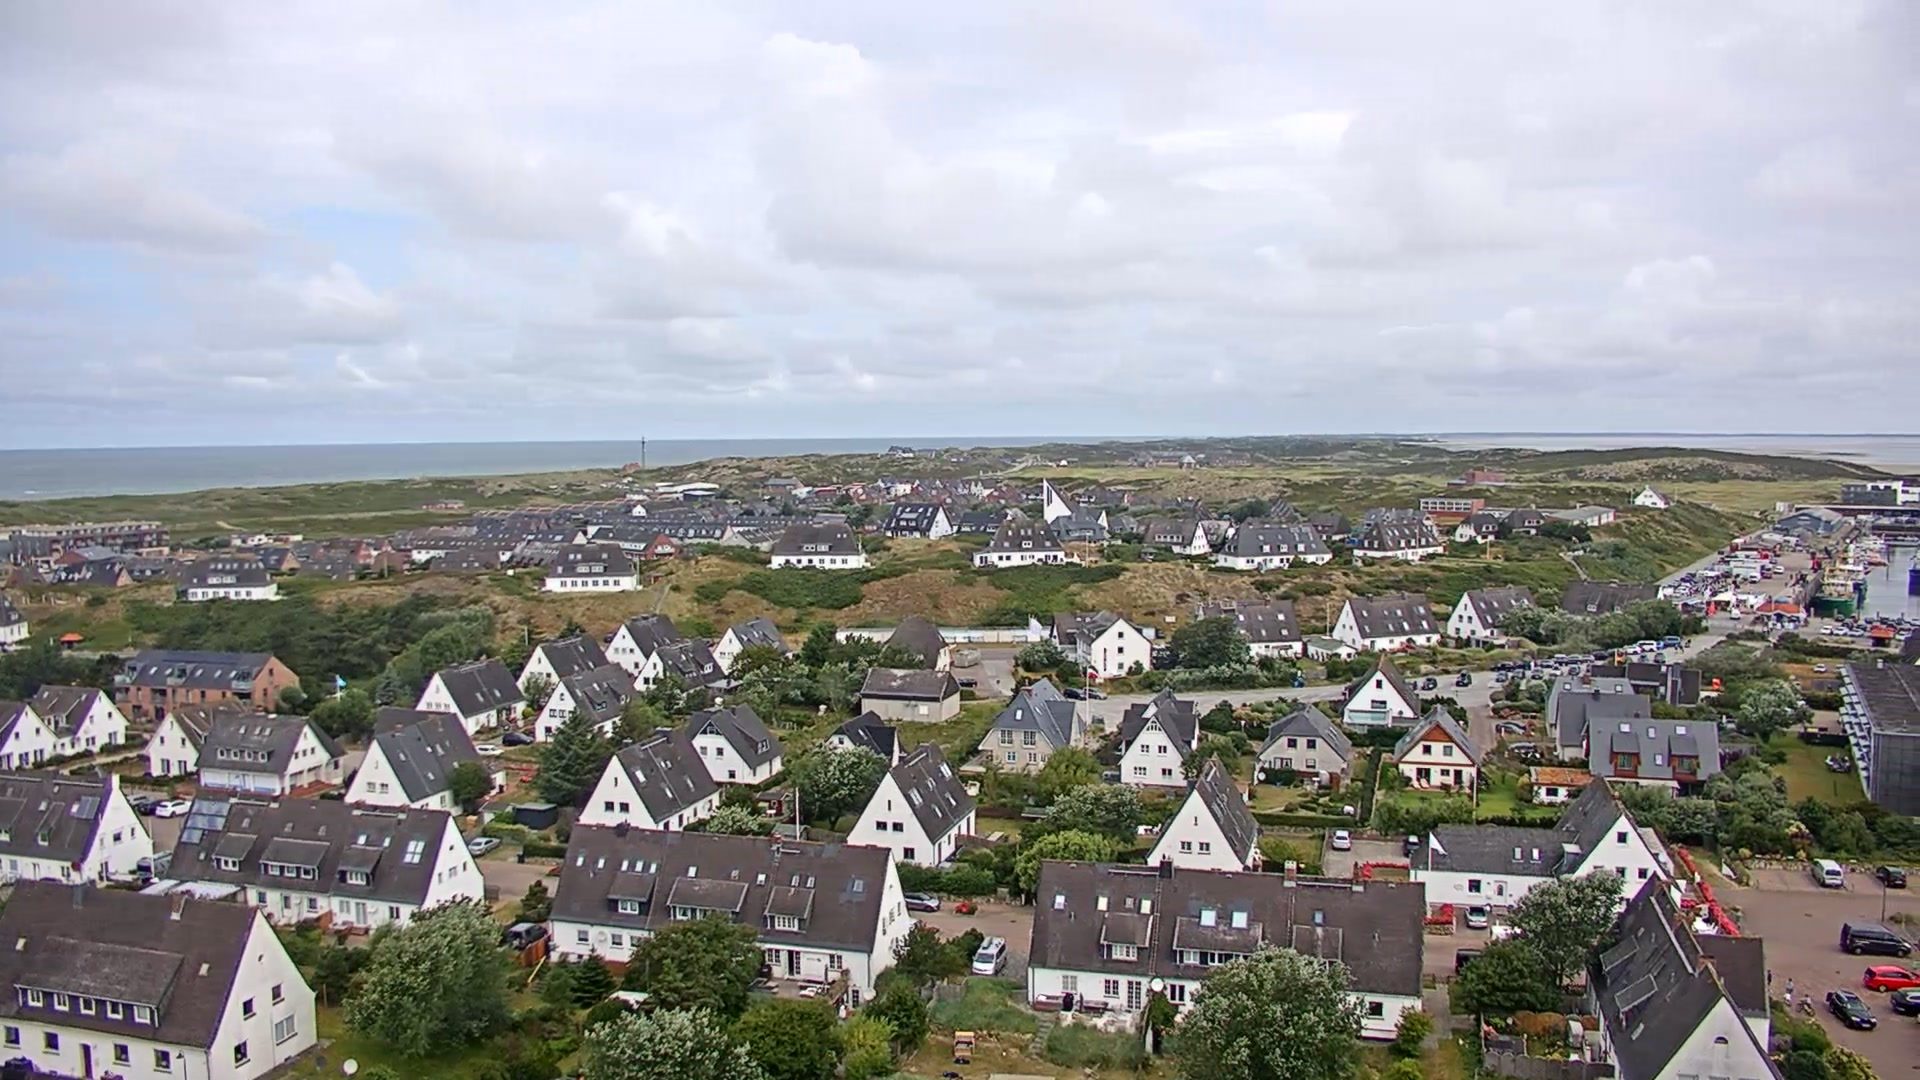human: (1784, 976, 1794, 997), (1804, 993, 1813, 1010), (1766, 968, 1772, 985), (1679, 644, 1684, 655), (1674, 643, 1679, 654), (1687, 638, 1692, 648)
land: (1840, 921, 1913, 957), (1825, 987, 1877, 1031), (1862, 964, 1919, 993), (971, 935, 1007, 975), (136, 849, 174, 883), (507, 922, 547, 950), (1810, 858, 1843, 889), (1453, 946, 1486, 975), (1889, 986, 1919, 1015), (901, 891, 940, 912), (1730, 562, 1773, 579), (1875, 864, 1906, 888), (155, 798, 191, 817), (465, 836, 501, 856), (1463, 905, 1487, 928), (138, 797, 167, 814), (502, 731, 533, 745), (124, 793, 149, 810), (1332, 828, 1351, 849), (473, 743, 504, 756), (1403, 834, 1420, 856), (1081, 686, 1108, 700), (1495, 721, 1525, 734), (1062, 687, 1087, 700), (1794, 1002, 1815, 1017), (1490, 661, 1515, 672), (1455, 670, 1471, 687), (1635, 638, 1656, 651), (1507, 742, 1536, 752), (957, 677, 978, 689), (1550, 653, 1568, 665), (1421, 676, 1437, 690), (1663, 635, 1680, 647), (1622, 644, 1640, 654), (1530, 667, 1544, 679), (1510, 669, 1524, 680), (1549, 665, 1564, 677), (1567, 653, 1582, 663), (1591, 650, 1609, 660), (1895, 630, 1911, 640), (1579, 653, 1594, 662), (1653, 651, 1665, 663), (1820, 625, 1833, 635), (1495, 671, 1508, 682), (1607, 647, 1624, 656), (1833, 627, 1847, 636), (1847, 627, 1862, 636), (1654, 637, 1664, 649), (1730, 608, 1742, 619), (1567, 664, 1579, 675), (1540, 659, 1554, 668), (1590, 663, 1599, 676), (1813, 663, 1827, 673), (1748, 574, 1759, 584), (1910, 617, 1920, 626), (1773, 565, 1784, 574), (1856, 621, 1866, 630), (1879, 615, 1890, 624), (1637, 654, 1648, 662), (1841, 620, 1851, 628), (1834, 613, 1844, 621), (1886, 622, 1895, 630), (1849, 614, 1857, 622), (1864, 616, 1874, 623), (1897, 617, 1905, 624)
sea: (1827, 562, 1867, 608), (1813, 578, 1856, 616), (1908, 551, 1920, 586)
